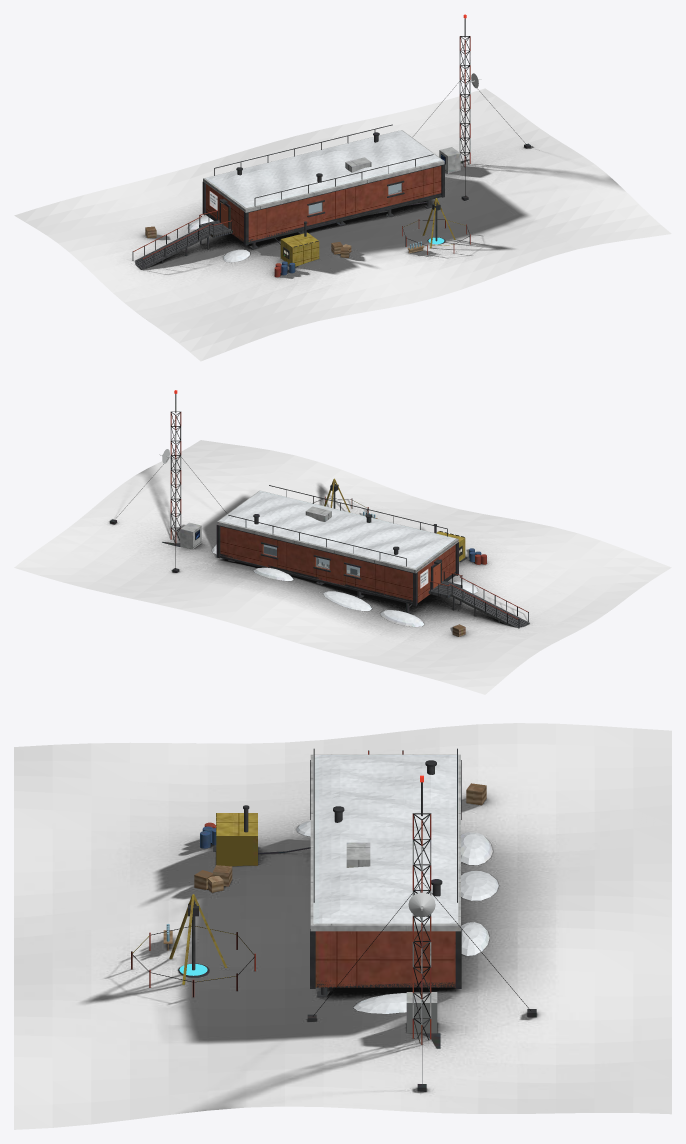
Rendered from station.glb.
3 views of the same model, one above another, from view 1: azimuth 30°, elevation 25°; view 2: azimuth 150°, elevation 25°; view 3: azimuth 270°, elevation 25° (orthographic). The views are drawn at different scales.
Parts seen in each view (by area): view 1: SHADOW_station, station_exterior; view 2: SHADOW_station, station_exterior; view 3: SHADOW_station, station_exterior.
Boxes of the visible parts, left/top/right/bottom form: SHADOW_station: left=14, top=88, right=671, bottom=361; station_exterior: left=132, top=18, right=530, bottom=277; SHADOW_station: left=14, top=440, right=671, bottom=694; station_exterior: left=110, top=394, right=529, bottom=636; SHADOW_station: left=14, top=723, right=671, bottom=1129; station_exterior: left=131, top=748, right=536, bottom=1091.
Size of what is drawn, in the model's own units: 52.85 by 18.1 by 36.28.
Materials: 7 (4 with a texture image).
